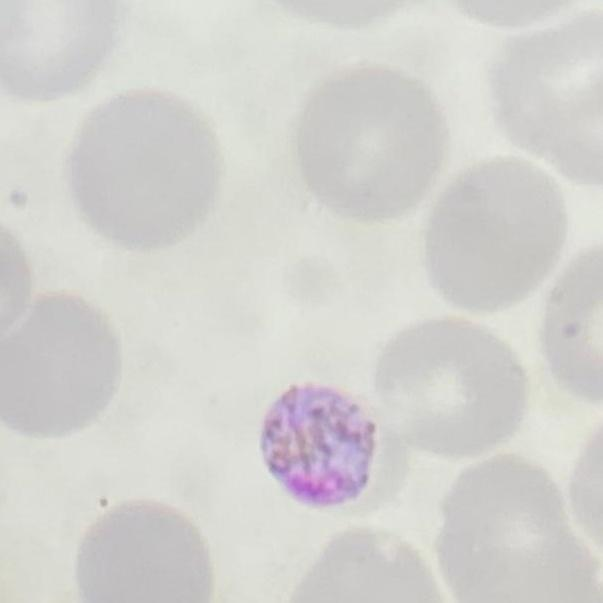Infected: (260, 382, 399, 516)
Uninfected: (70, 87, 221, 254), (298, 64, 445, 227), (377, 314, 528, 461), (442, 456, 593, 603), (428, 156, 564, 314), (492, 14, 603, 187), (0, 292, 123, 433), (75, 502, 213, 603), (2, 0, 116, 101)
